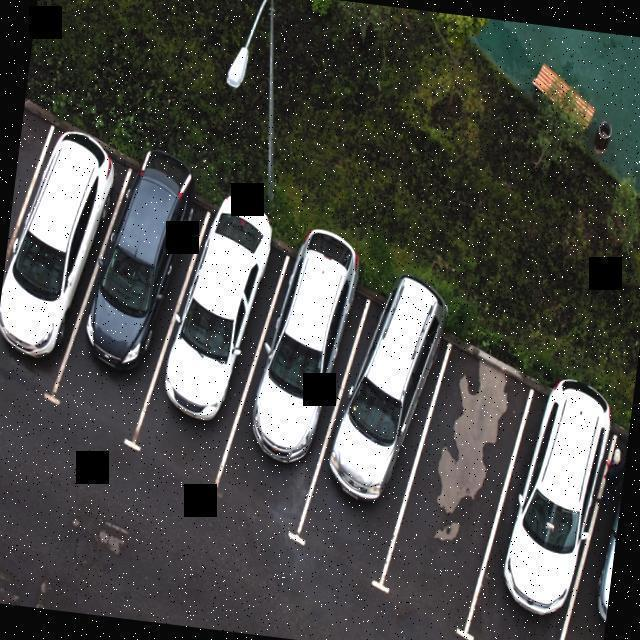space-empty: (370, 347, 540, 618)
space-occupied: (455, 368, 627, 640), (128, 204, 294, 483), (207, 254, 372, 531), (291, 291, 450, 566), (45, 163, 200, 438), (0, 127, 134, 390), (562, 401, 632, 640)
